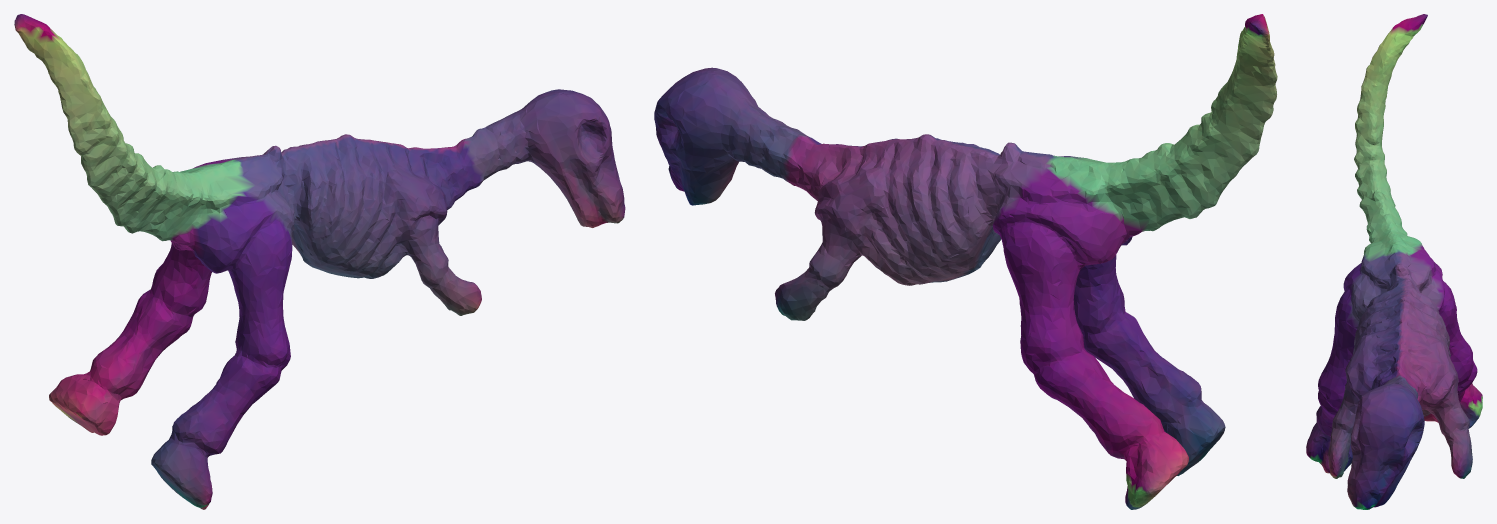
Rendered from dino_skel-8.off.obj.
3 renders of one model, left to right at view 1: azimuth 30°, elevation 25°; view 2: azimuth 150°, elevation 25°; view 3: azimuth 270°, elevation 25°, orthographic. The views are drawn at different scales.
Bounding box in the file's own units: 1.37 × 1.1 × 0.4314.
